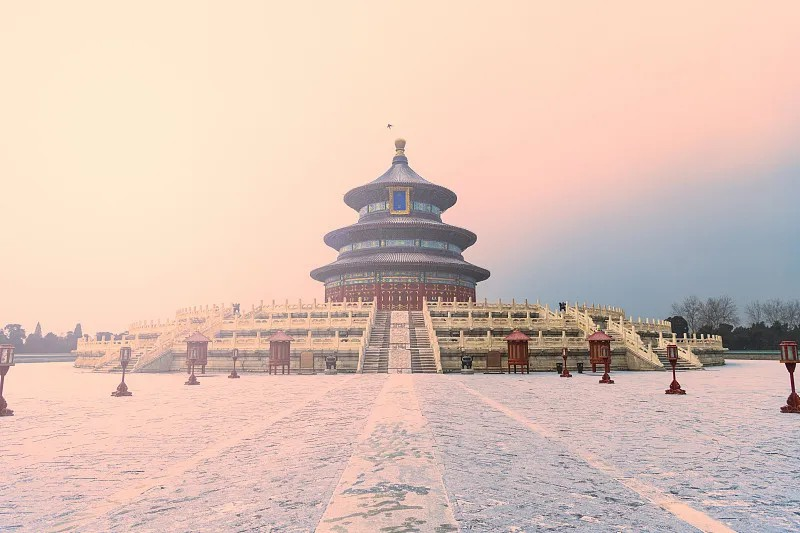Heaven: (309, 139, 490, 309)
